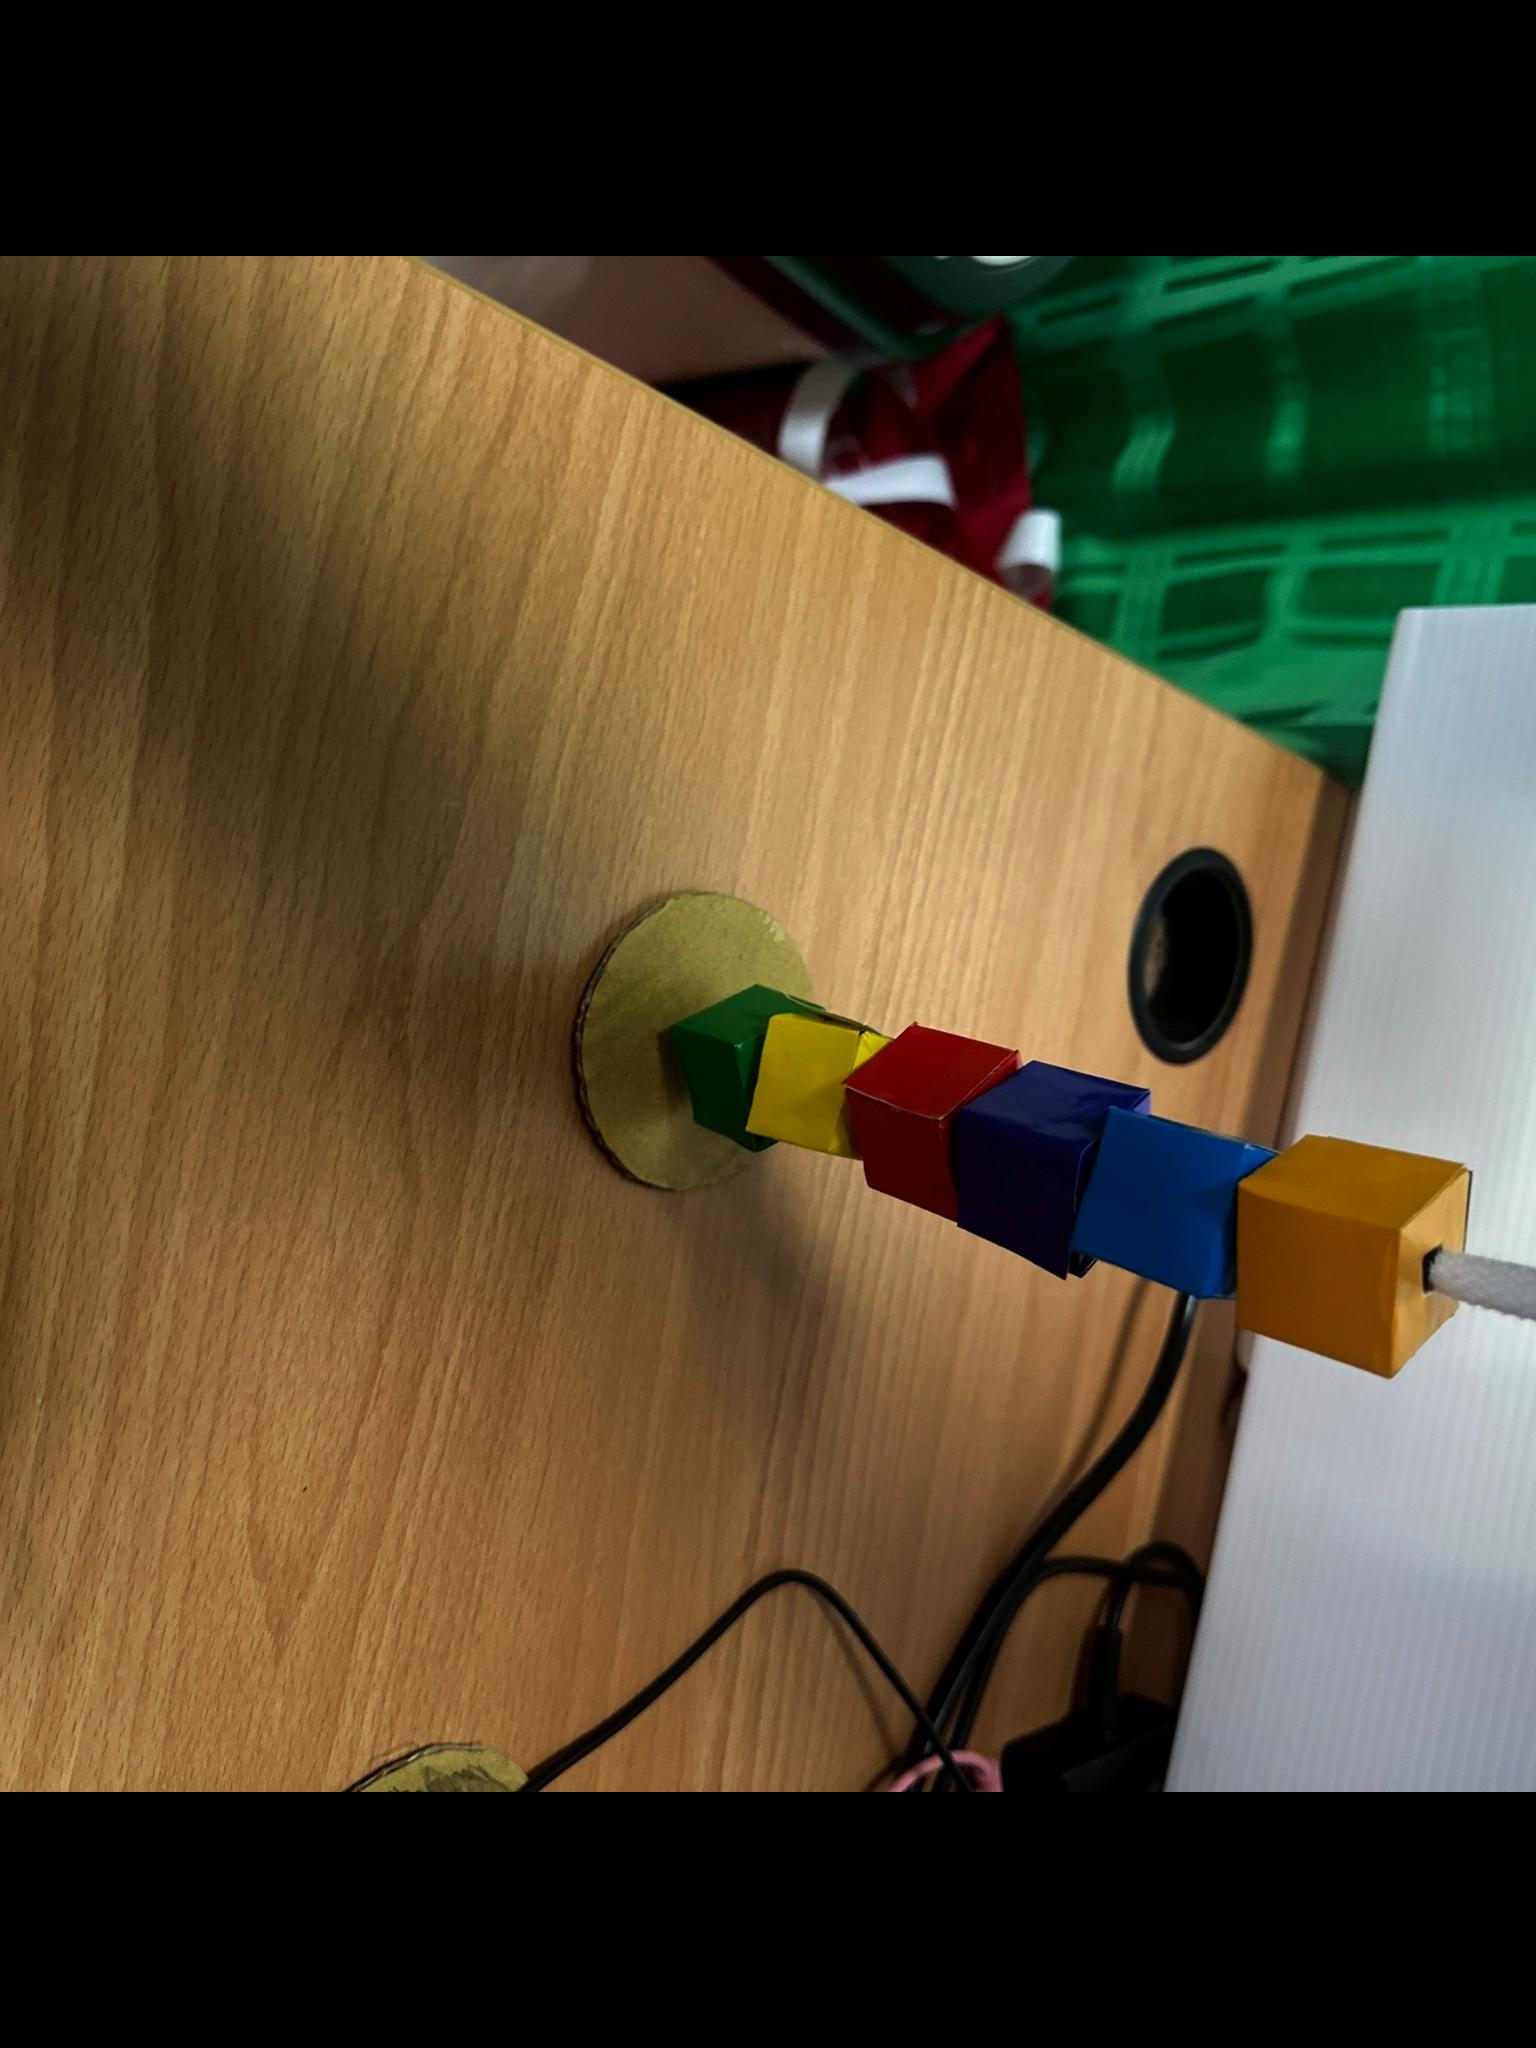base: (574, 892, 813, 1190)
